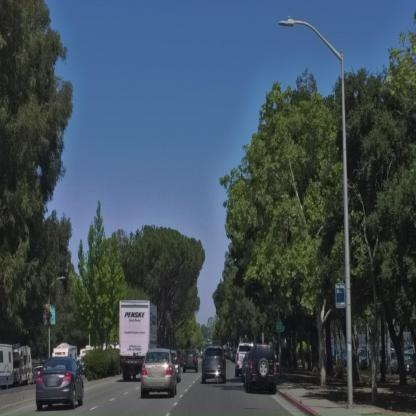car: (36, 356, 86, 410), (139, 350, 181, 398), (240, 342, 278, 392), (201, 344, 226, 383), (235, 343, 253, 377), (180, 351, 198, 372)
truck: (118, 300, 156, 383), (2, 343, 34, 388)
